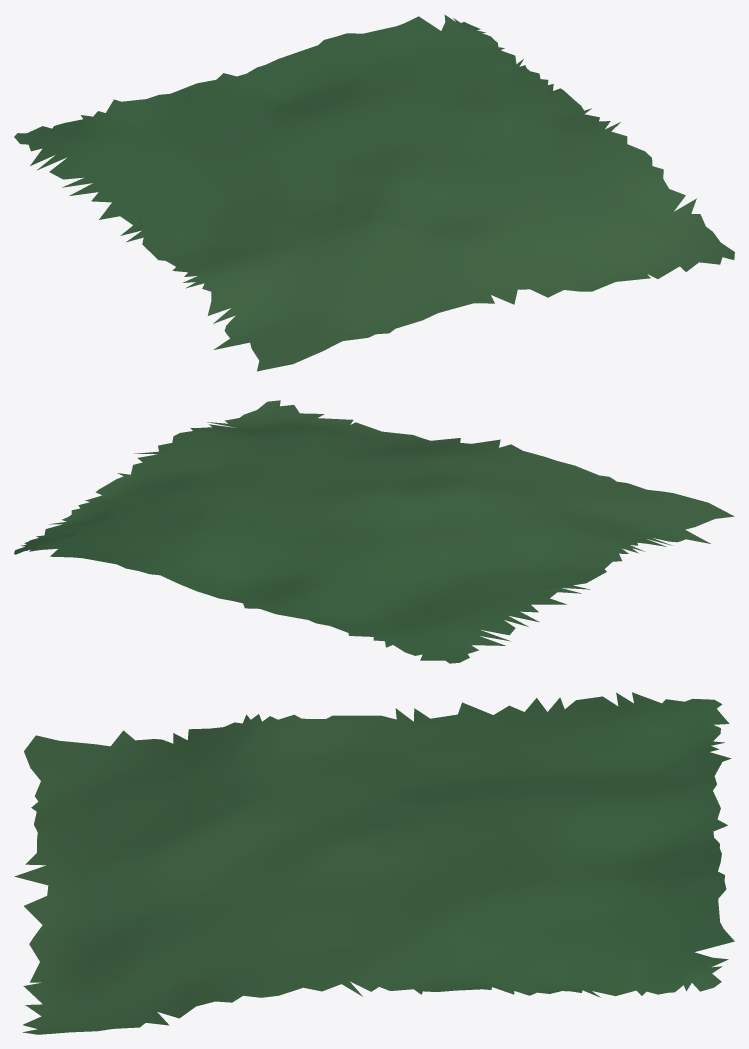
Rendered from payo_land_xm1_y8_lod1.glb.
The picture shows the model from 3 angles, top to bottom: view 1: azimuth 30°, elevation 25°; view 2: azimuth 150°, elevation 25°; view 3: azimuth 270°, elevation 25°; orthographic projection. The views are drawn at different scales.
Parts seen in each view (by area): view 1: payo_land_xm1_y8; view 2: payo_land_xm1_y8; view 3: payo_land_xm1_y8.
Part boxes in pixels (x1,y1,x2,y2): payo_land_xm1_y8: (14,15,734,371); payo_land_xm1_y8: (14,400,734,663); payo_land_xm1_y8: (14,692,734,1034).
Bounding box in the file's own units: 280 × 30.18 × 270.
